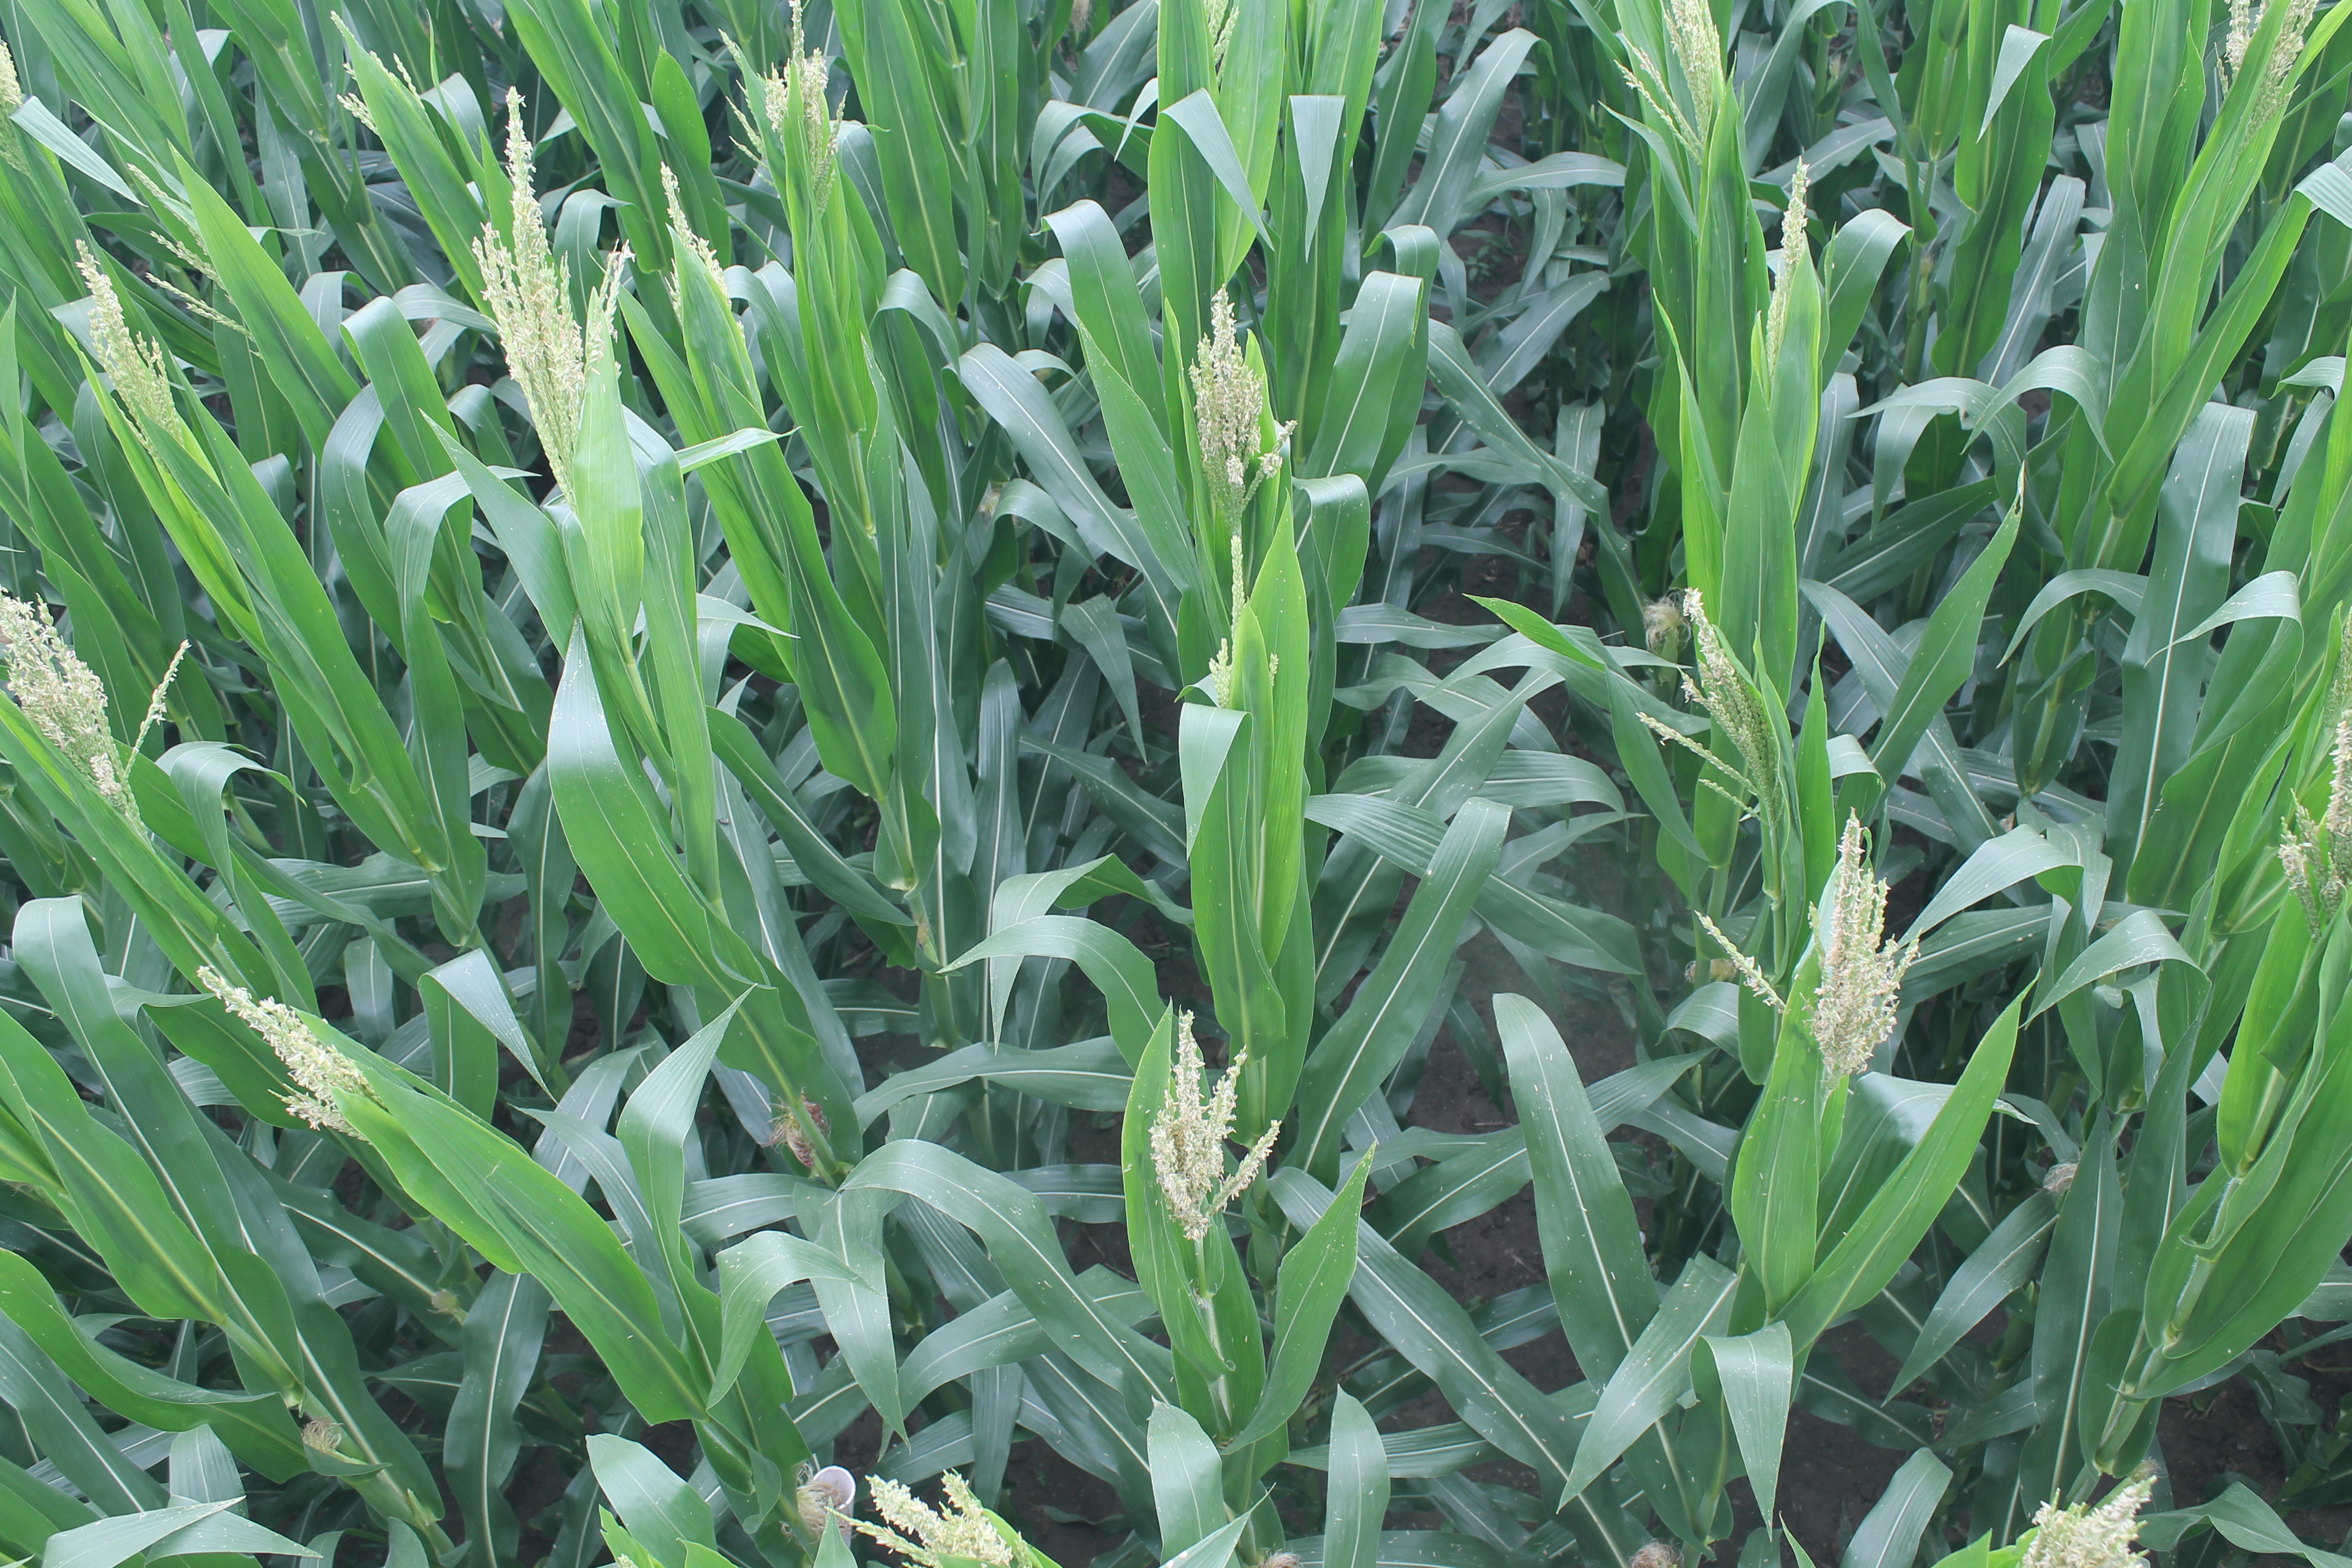Maize: (465, 94, 630, 472), (54, 241, 212, 465), (1638, 581, 1781, 822), (189, 962, 376, 1144), (0, 581, 136, 822), (1151, 1004, 1281, 1239), (1811, 808, 1906, 1097), (1176, 287, 1277, 495), (833, 1468, 1032, 1568), (745, 2, 854, 163), (1617, 0, 1713, 177), (2287, 661, 2352, 924), (2007, 1472, 2170, 1568), (2222, 0, 2313, 143), (656, 157, 738, 315), (1764, 152, 1818, 362)
